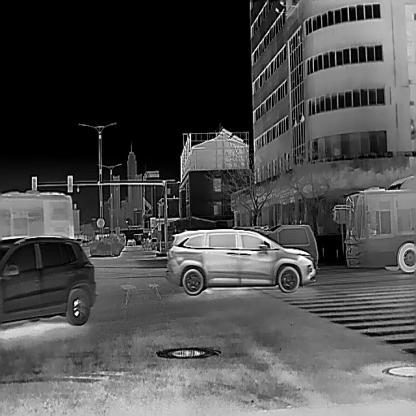car: (166, 228, 316, 294), (0, 235, 98, 325), (0, 234, 96, 325), (333, 172, 416, 273), (0, 188, 74, 250), (240, 224, 318, 271), (126, 238, 134, 245)
